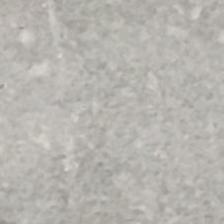Non_Crack: (3, 18, 221, 196)
